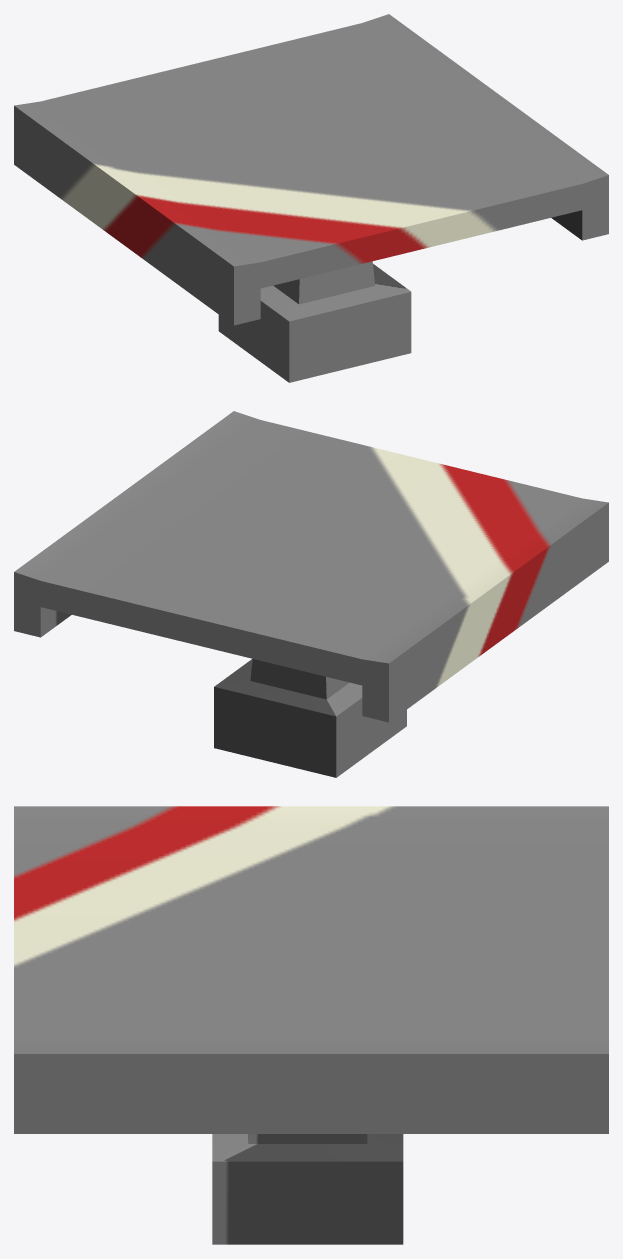
The model's file is Landing_Pad_01.fbx.
3 renders of one model, top to bottom at view 1: azimuth 30°, elevation 25°; view 2: azimuth 150°, elevation 25°; view 3: azimuth 270°, elevation 25°, orthographic. The views are drawn at different scales.
Visible parts, largest first — view 1: Pad_01, Pad_01_Base; view 2: Pad_01, Pad_01_Base; view 3: Pad_01, Pad_01_Base.
Part boxes in pixels (x1=…): Pad_01: x1=14, y1=14, x2=608, y2=325; Pad_01_Base: x1=218, y1=261, x2=411, y2=382; Pad_01: x1=14, y1=411, x2=608, y2=722; Pad_01_Base: x1=214, y1=659, x2=406, y2=777; Pad_01: x1=14, y1=806, x2=608, y2=1133; Pad_01_Base: x1=212, y1=1134, x2=403, y2=1244.
Size of the model in its own units: 19.63 by 10.08 by 19.93.
